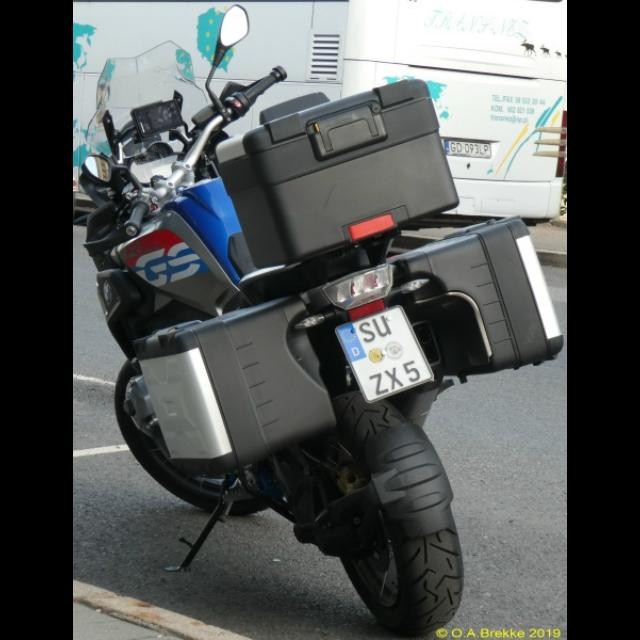d_license_plate: (334, 304, 434, 402)
